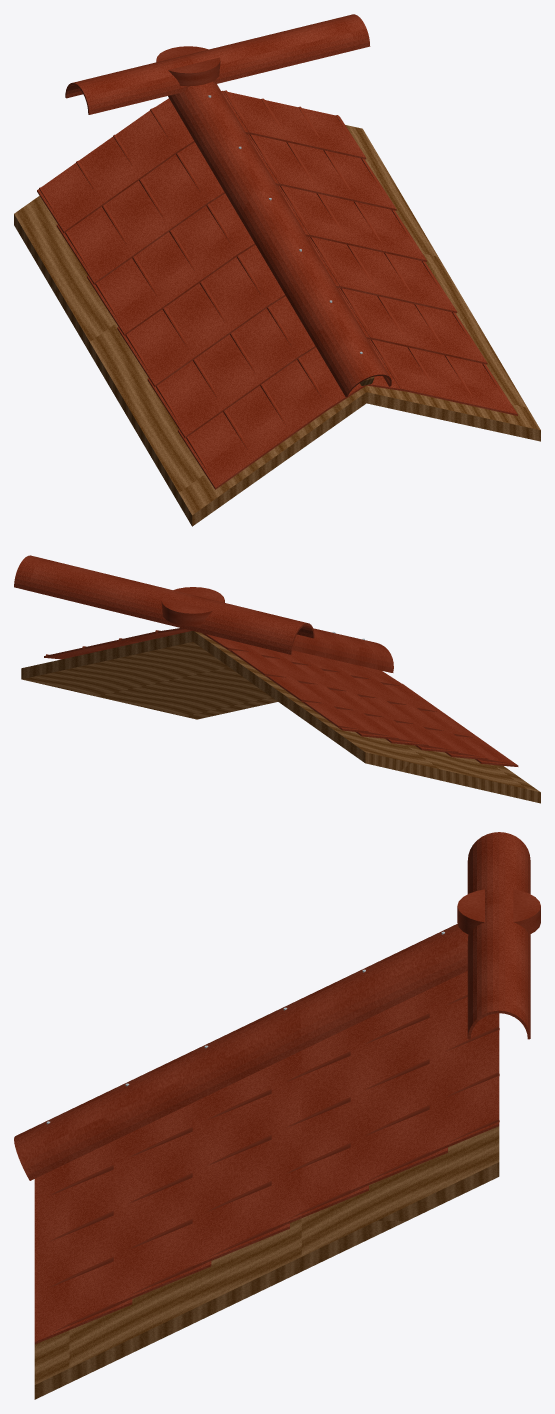
Rendered from modell.glb.
The picture shows the model from 3 angles, top to bottom: view 1: azimuth 30°, elevation 25°; view 2: azimuth 150°, elevation 25°; view 3: azimuth 270°, elevation 25°; orthographic projection. The views are drawn at different scales.
Visible parts, largest first — view 1: w03-ziegel_deckung, w03-walmflaeche_tragwerk, w03-gratziegel_deckung, w03-first_deckung, w03-knoten_deckung; view 2: w03-walmflaeche_tragwerk, w03-ziegel_deckung, w03-first_deckung, w03-gratziegel_deckung, w03-knoten_deckung; view 3: w03-ziegel_deckung, w03-walmflaeche_tragwerk, w03-gratziegel_deckung, w03-first_deckung, w03-knoten_deckung.
Part boxes in pixels (<box>): w03-ziegel_deckung: <box>37,90,517,489</box>; w03-walmflaeche_tragwerk: <box>14,125,540,526</box>; w03-gratziegel_deckung: <box>168,81,391,396</box>; w03-first_deckung: <box>65,14,370,114</box>; w03-knoten_deckung: <box>156,46,220,86</box>; w03-walmflaeche_tragwerk: <box>21,631,540,803</box>; w03-ziegel_deckung: <box>44,628,518,766</box>; w03-first_deckung: <box>14,555,314,654</box>; w03-gratziegel_deckung: <box>292,628,393,672</box>; w03-knoten_deckung: <box>161,587,224,626</box>; w03-ziegel_deckung: <box>34,971,499,1343</box>; w03-walmflaeche_tragwerk: <box>34,1126,499,1399</box>; w03-gratziegel_deckung: <box>14,924,468,1180</box>; w03-first_deckung: <box>467,832,530,1039</box>; w03-knoten_deckung: <box>457,889,540,934</box>.
Size of the model in its own units: 2.26 by 1.84 by 2.27.
Materials: 3 (2 with a texture image).
